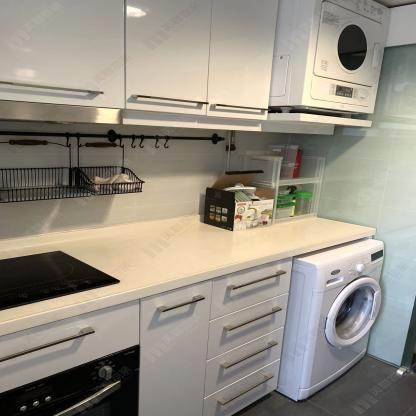Cupboard: (0, 0, 278, 120), (140, 258, 298, 416), (126, 1, 281, 122)
Exhaust Hood: (0, 99, 125, 124)
Oven: (0, 343, 139, 415)
Stove: (0, 249, 132, 317), (0, 250, 122, 310)
Washing Machine: (276, 237, 385, 401)
